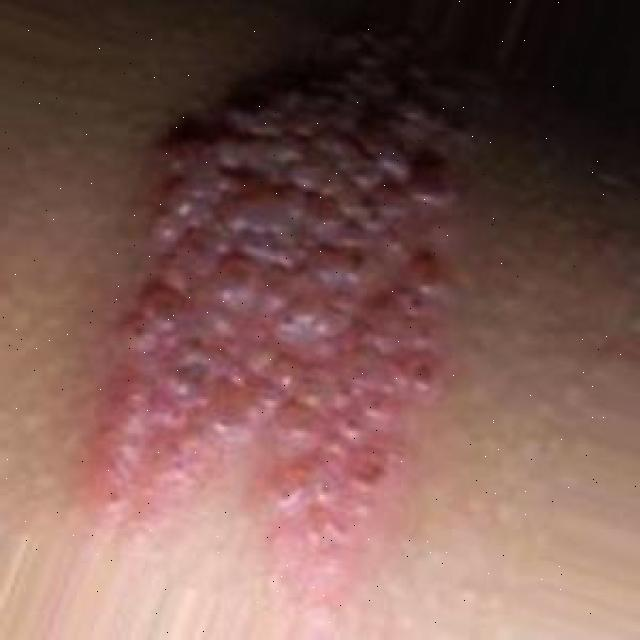Shingles: (73, 53, 470, 561)
